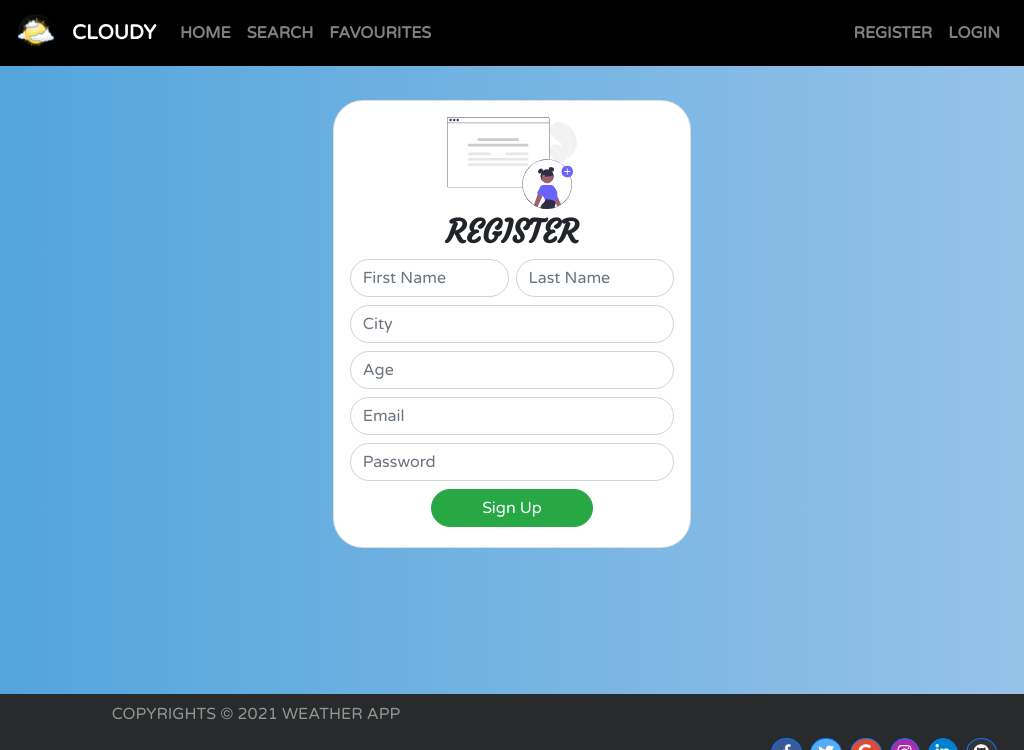
Test: Check the working of Register › Check Invalid First Name
Type "abc" into the field with test id "register-first-name". click: (430,278)
box: [350, 259, 509, 297]
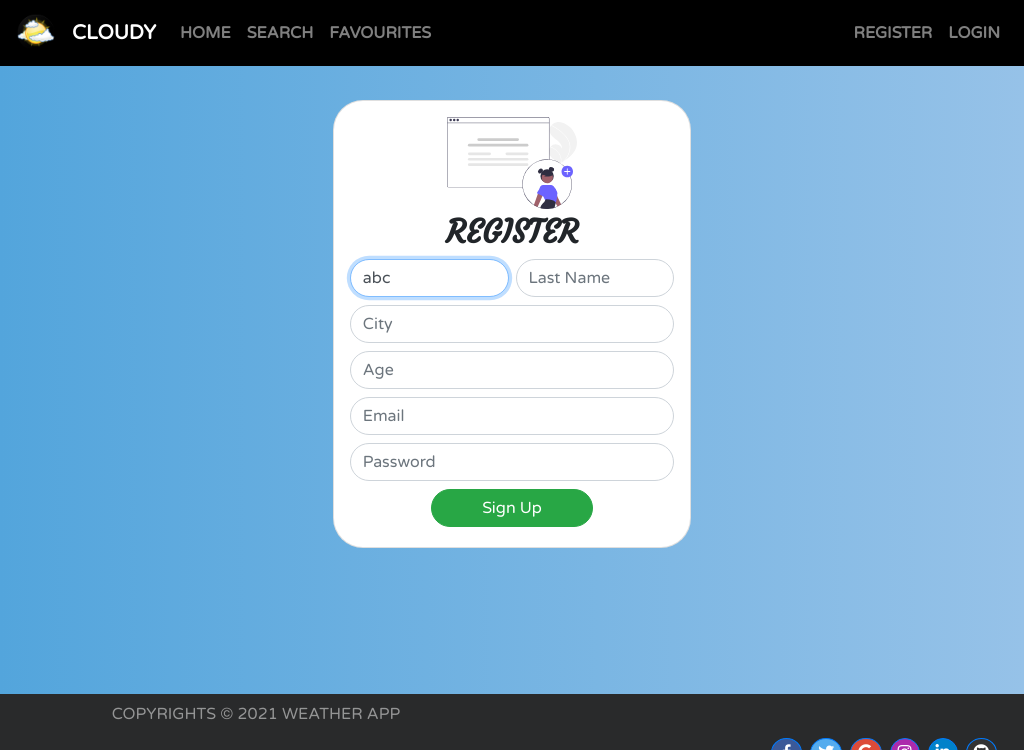
Click the button with test id "signup-btn". click: (512,508)
box: [431, 489, 593, 527]
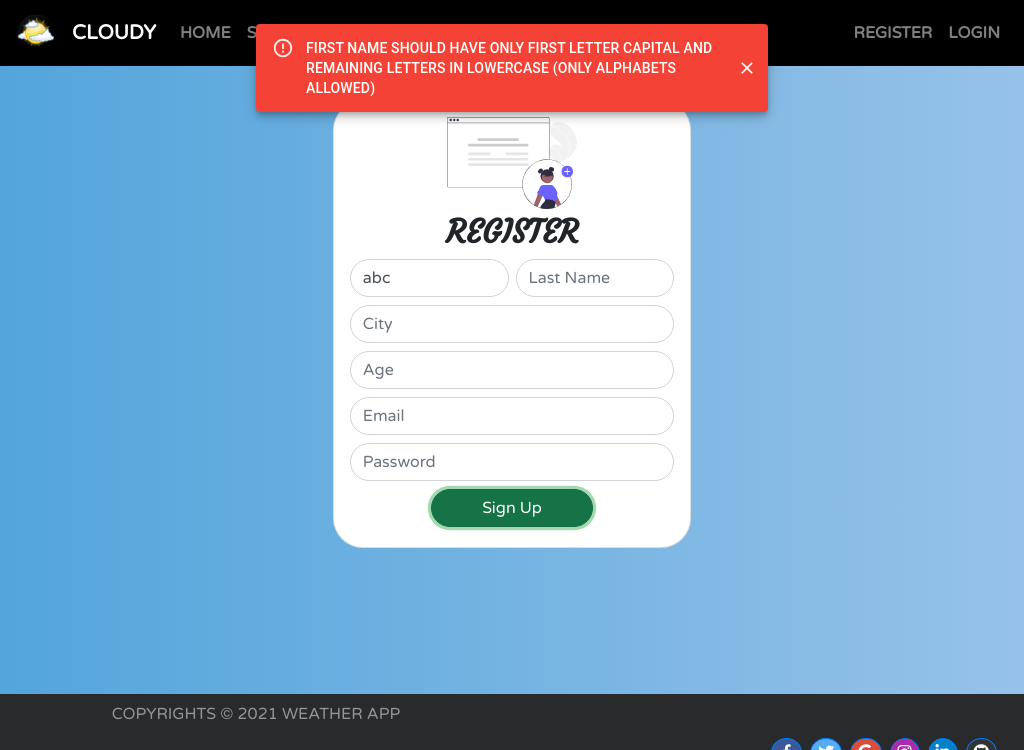
Expected: the text "First Name should have only first letter Capital and remaining letters in lowercase (Only Alphabets allowed)" is shown, [306, 30, 718, 106]
